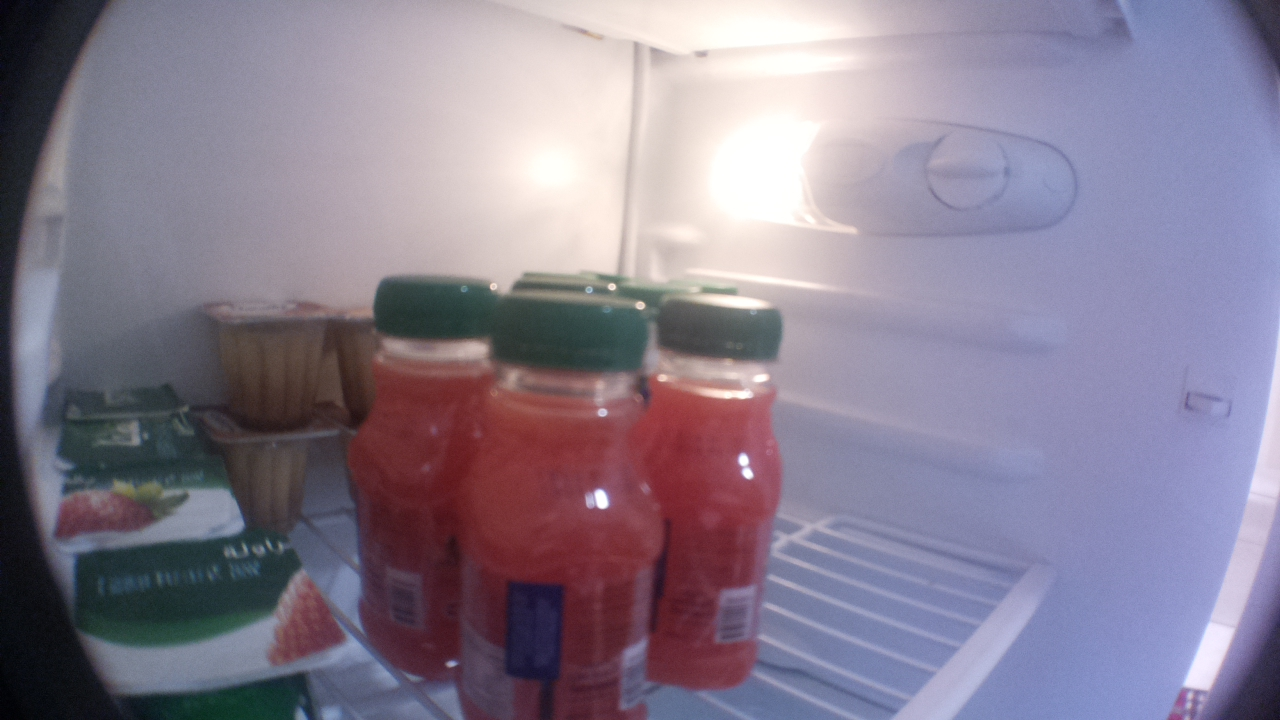caramel: (195, 296, 338, 430), (212, 419, 349, 550), (330, 308, 378, 421)
juice: (451, 295, 663, 720), (345, 260, 497, 692), (646, 295, 791, 696), (503, 273, 624, 302)
yoghurt: (59, 530, 350, 697), (45, 457, 245, 554), (49, 416, 223, 471), (55, 384, 188, 421)
